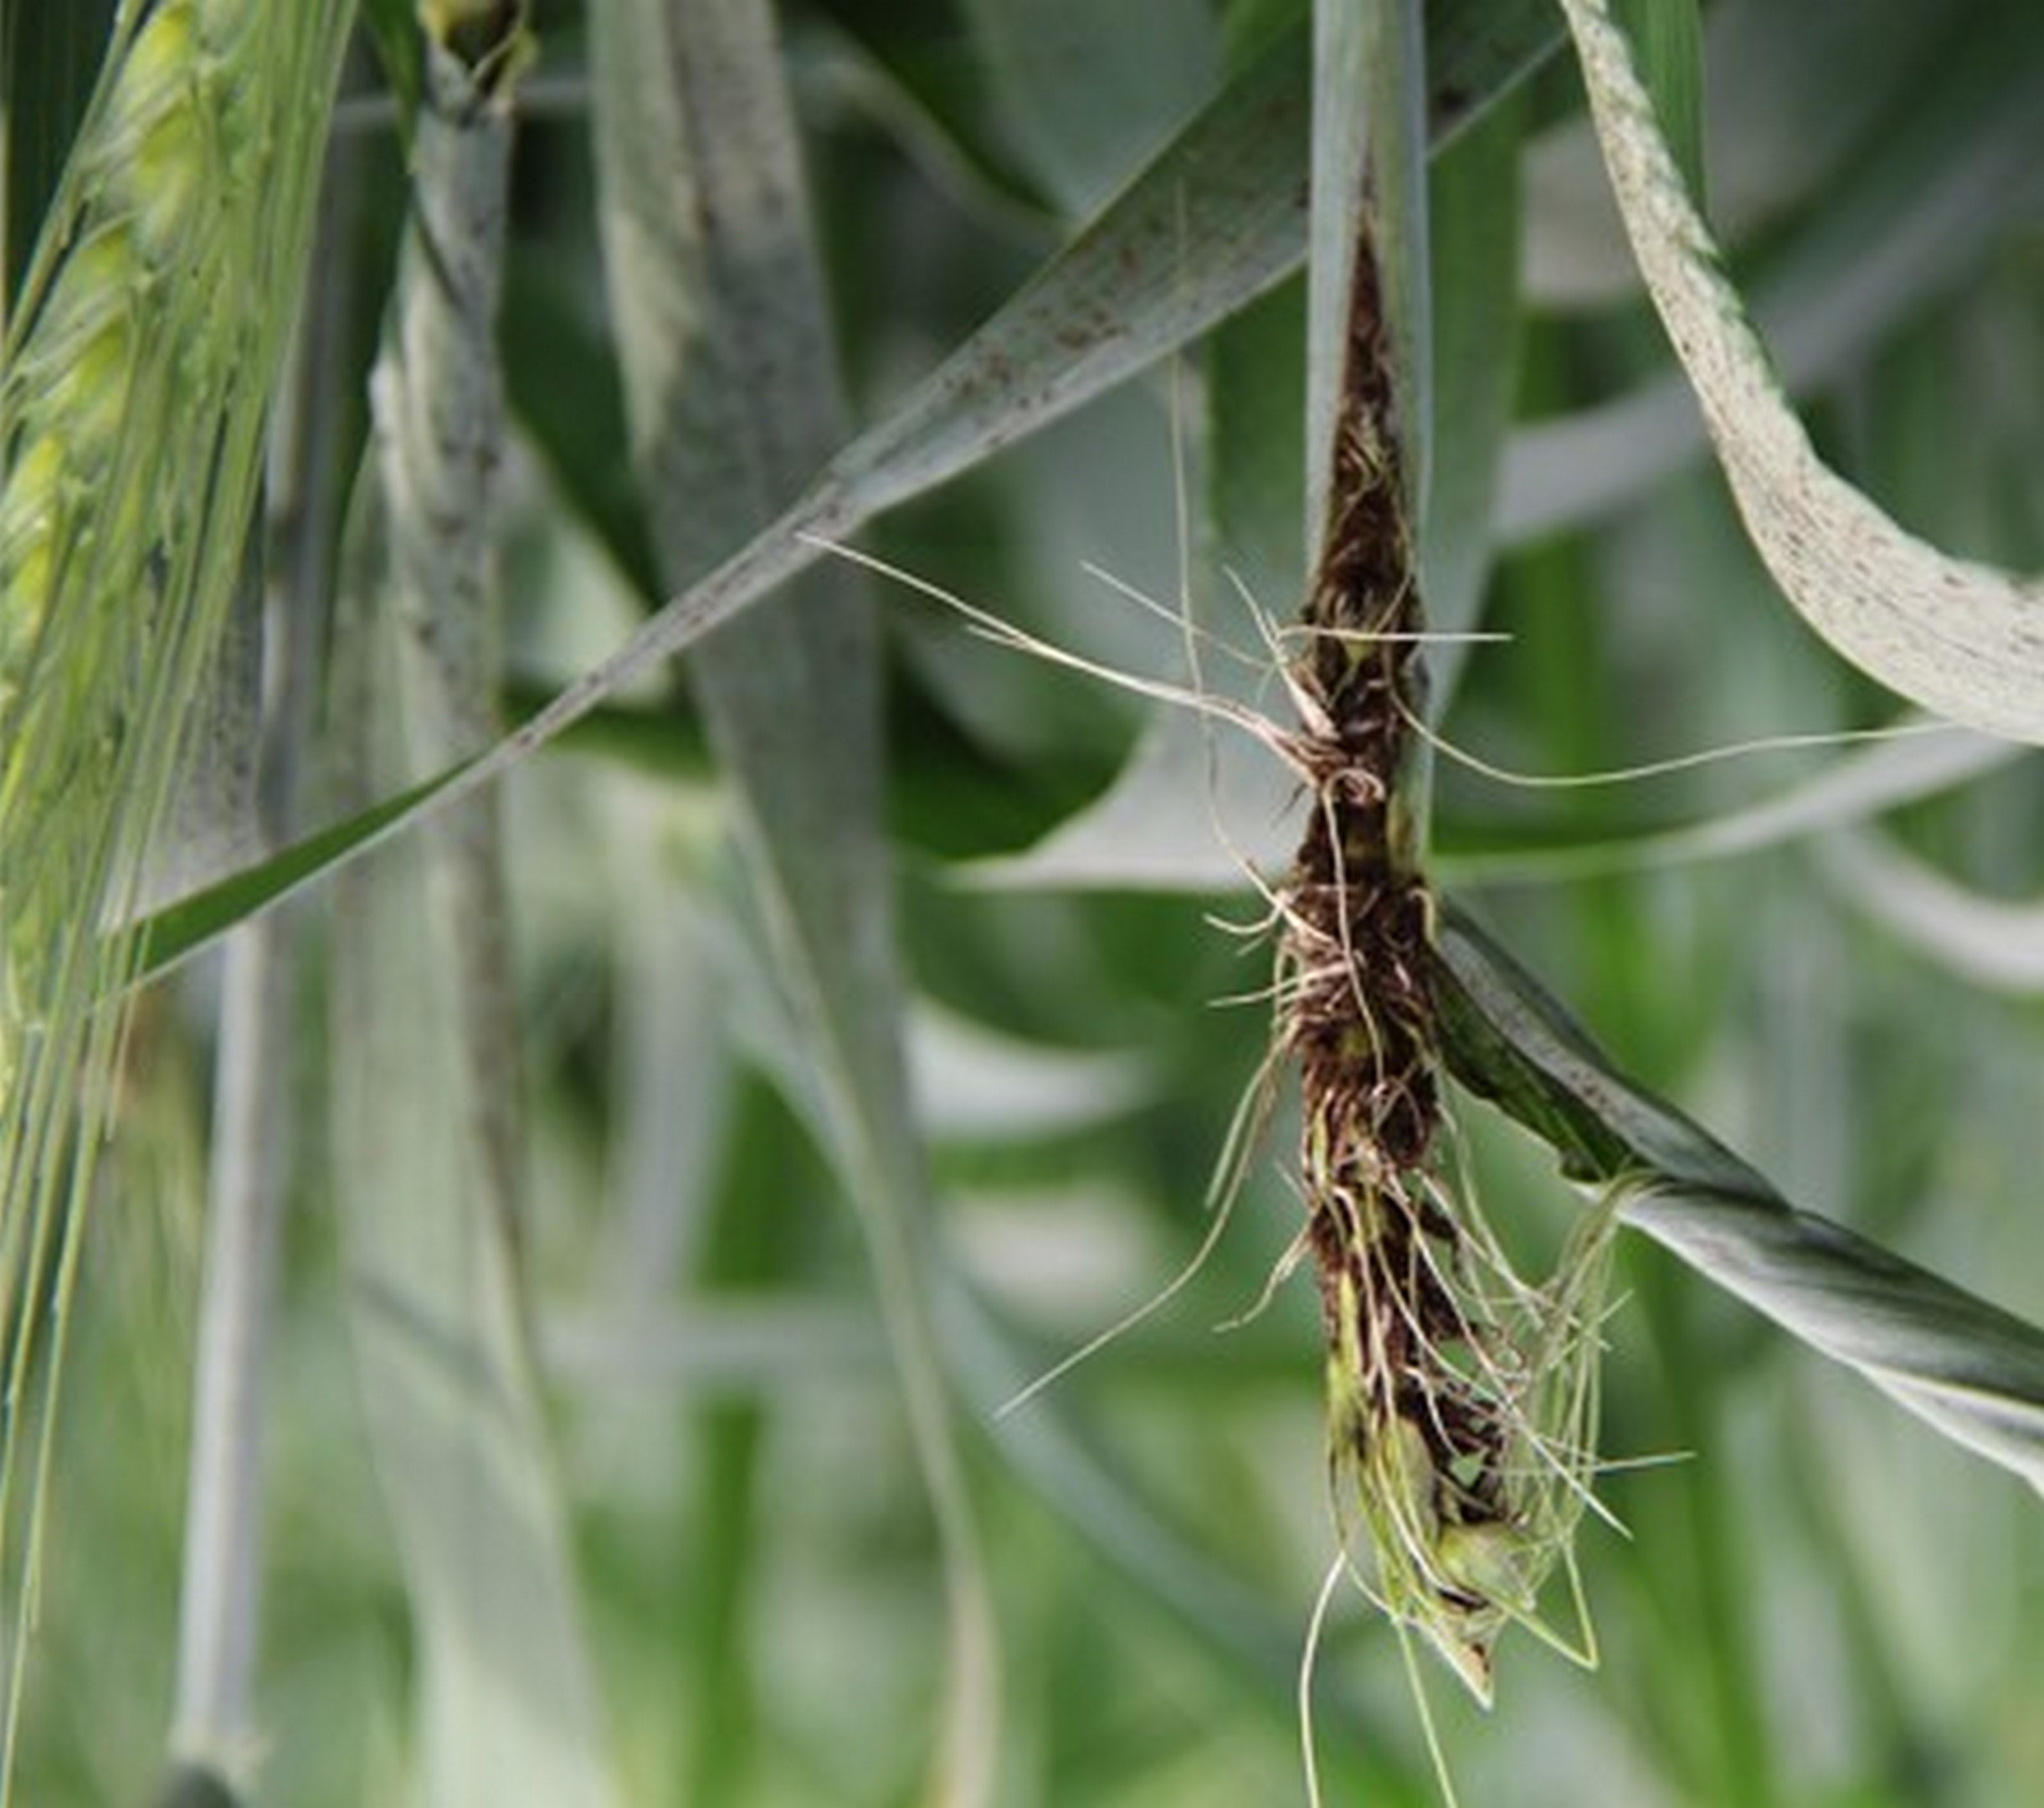Wheat Loose Smut: (1194, 435, 1574, 1581)
